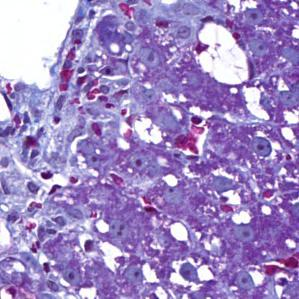ballooning: (194, 20, 253, 87)
